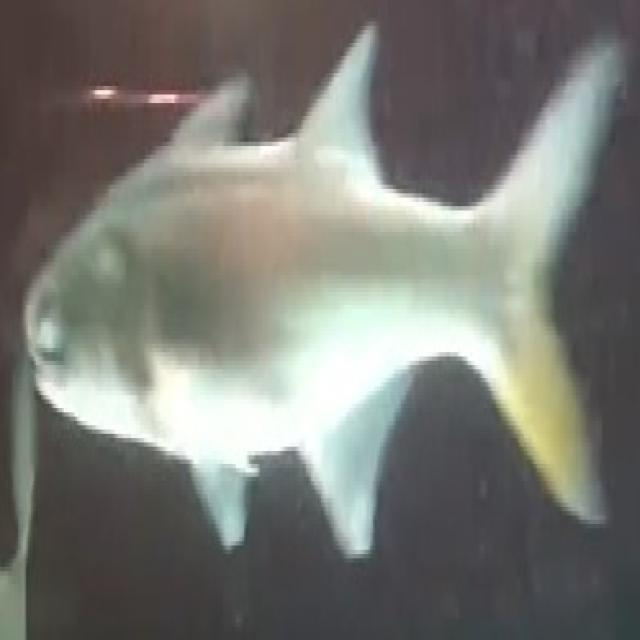Fourfinger-Threadfin: (22, 33, 638, 546)
